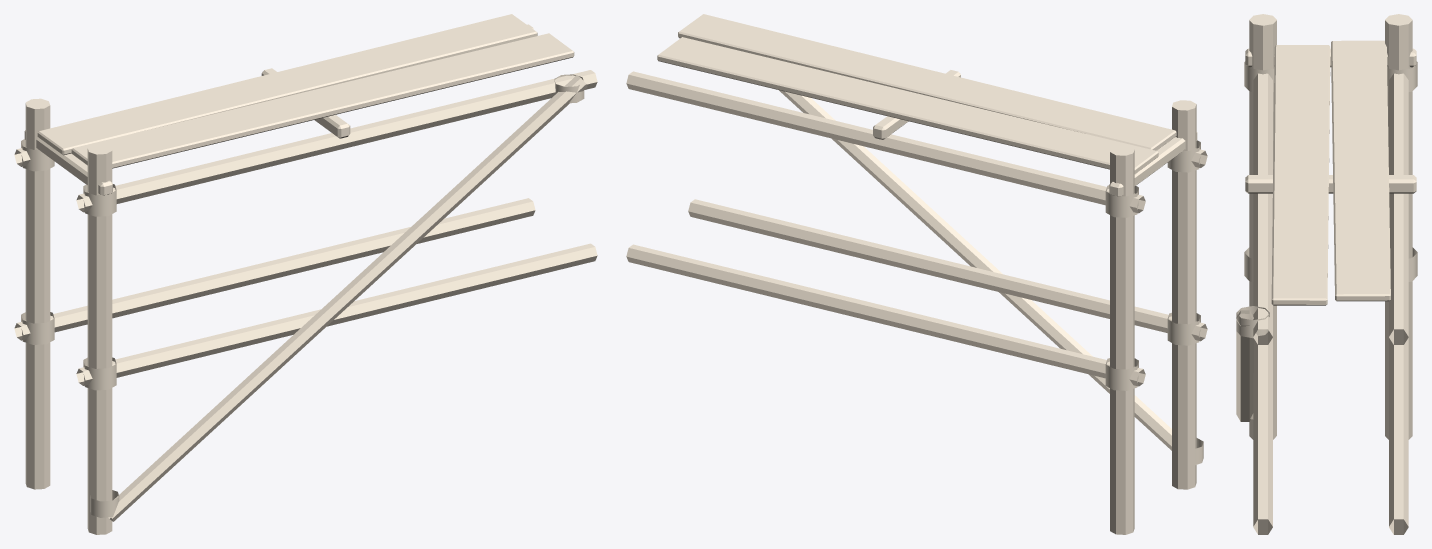
Rendered from SM_VK_Scaffold_Wall_Top.fbx.
The picture shows the model from 3 angles, left to right: view 1: azimuth 30°, elevation 25°; view 2: azimuth 150°, elevation 25°; view 3: azimuth 270°, elevation 25°; orthographic projection. The views are drawn at different scales.
Visible parts, largest first — view 1: SM_VK_Scaffold_Wall_Top.001; view 2: SM_VK_Scaffold_Wall_Top.001; view 3: SM_VK_Scaffold_Wall_Top.001.
Part boxes in pixels (left/top/right/bottom): SM_VK_Scaffold_Wall_Top.001: left=14, top=14, right=597, bottom=534; SM_VK_Scaffold_Wall_Top.001: left=626, top=14, right=1207, bottom=534; SM_VK_Scaffold_Wall_Top.001: left=1236, top=14, right=1417, bottom=534.
Bounding box in the file's own units: 3.24 × 2.3 × 0.91.
